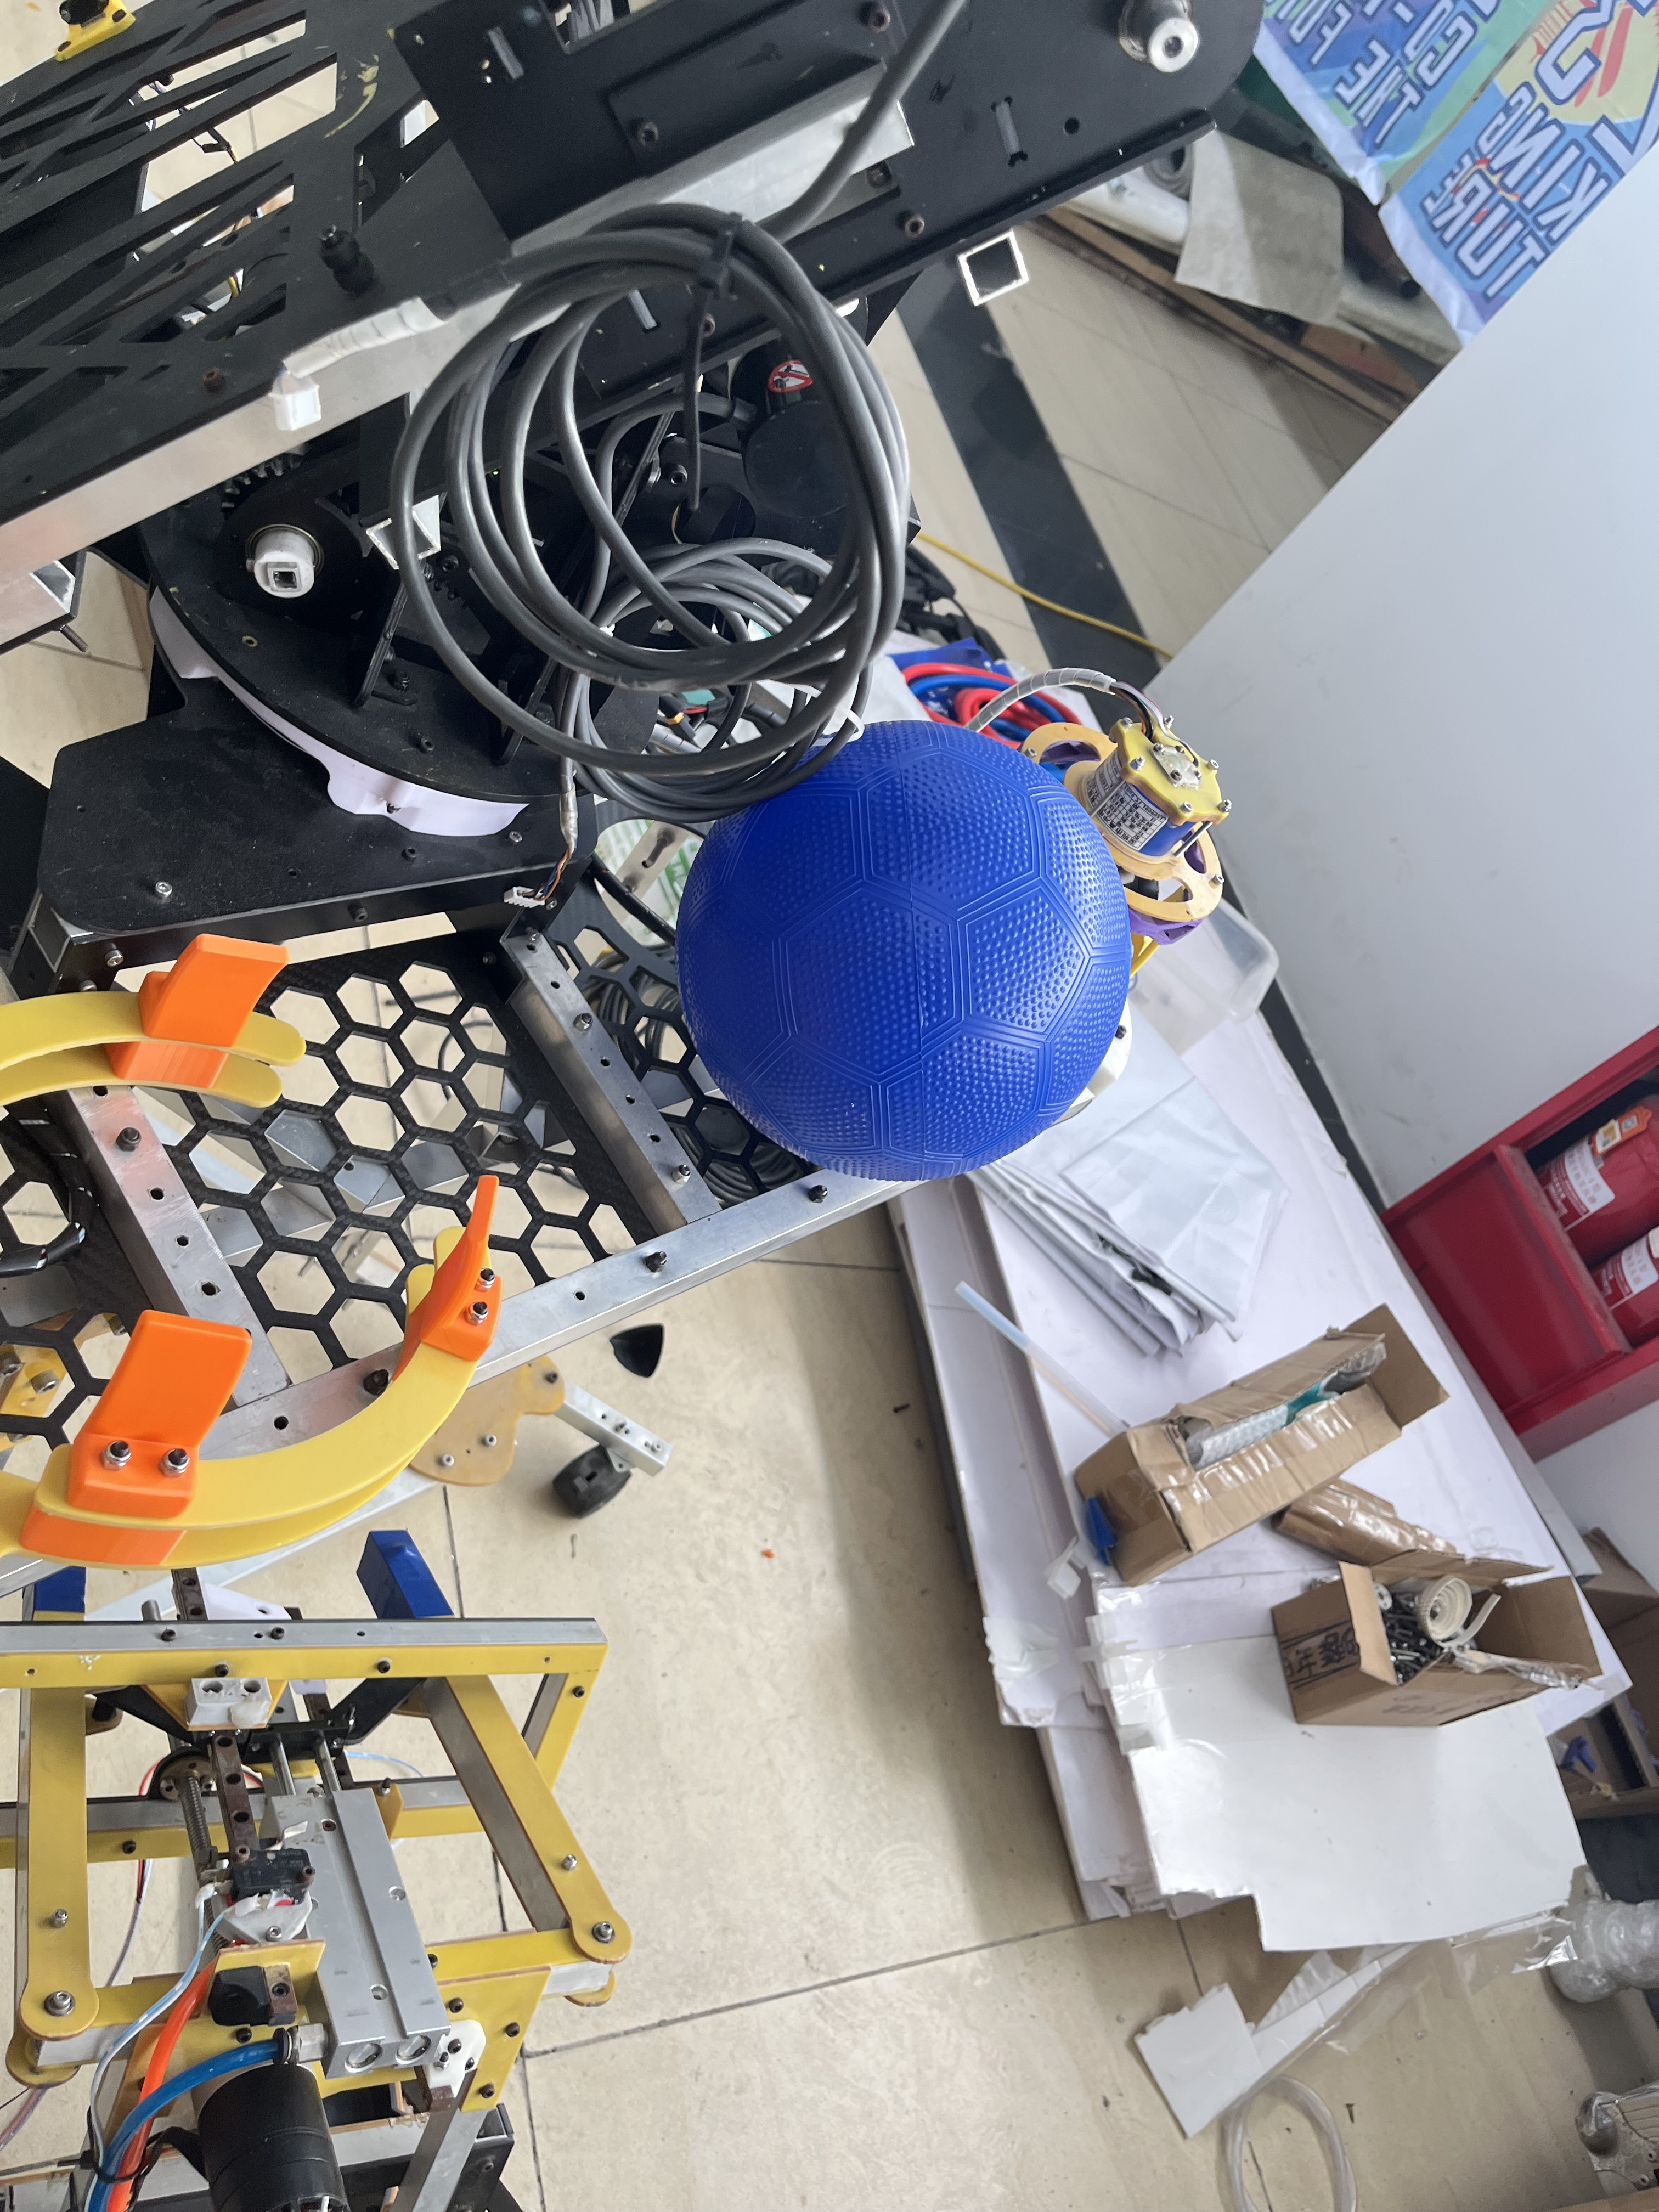blue: (678, 721, 1145, 1197)
